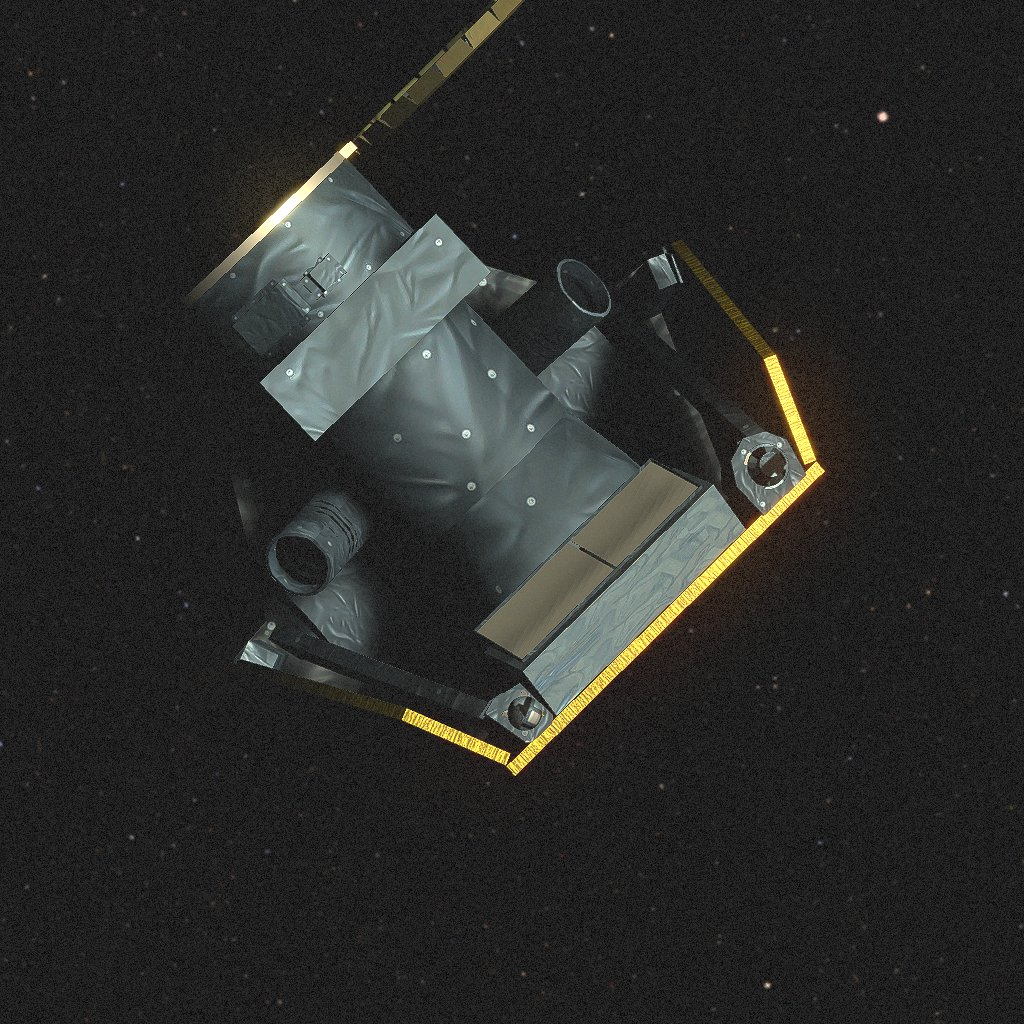cheops: (135, 0, 825, 797)
